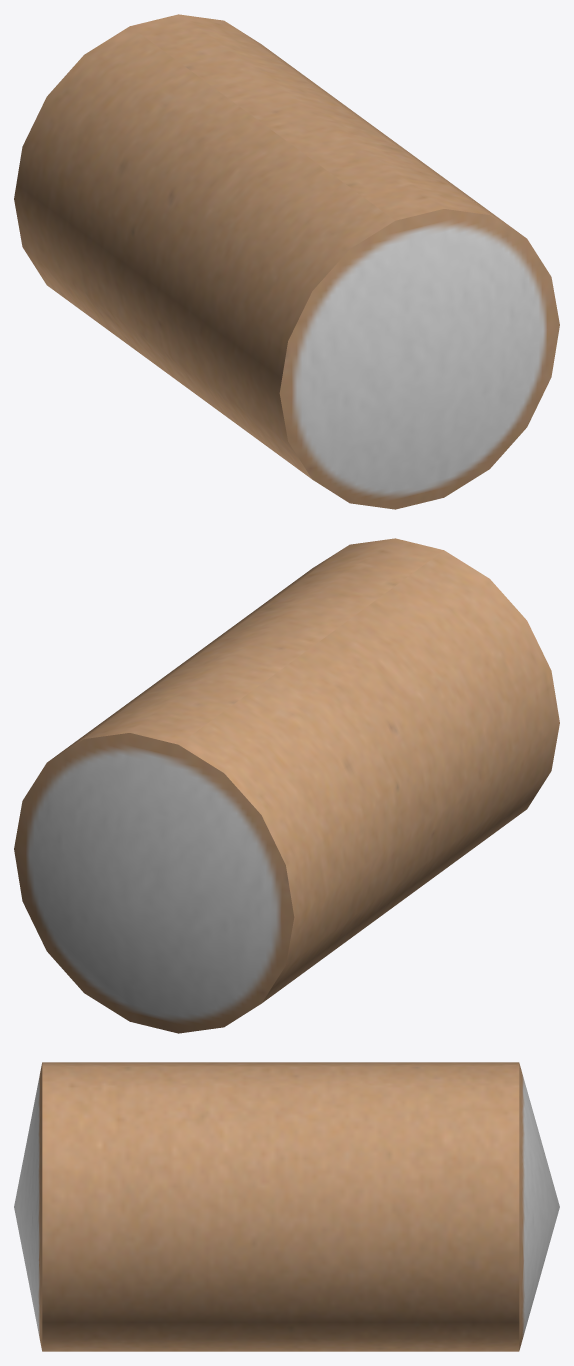
File: cotton rolled.FBX
The picture shows the model from 3 angles, top to bottom: view 1: azimuth 30°, elevation 25°; view 2: azimuth 150°, elevation 25°; view 3: azimuth 270°, elevation 25°; orthographic projection. The views are drawn at different scales.
Visible parts, largest first — view 1: cotton rolled; view 2: cotton rolled; view 3: cotton rolled.
Part boxes in pixels (bbox=[...]): cotton rolled: bbox=[14, 14, 559, 509]; cotton rolled: bbox=[14, 538, 559, 1033]; cotton rolled: bbox=[14, 1062, 559, 1351].
Bounding box in the file's own units: 3.16 × 5.94 × 3.12.
